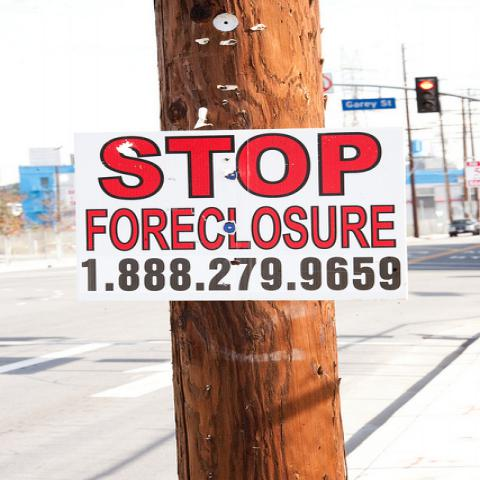car: (448, 218, 479, 237)
